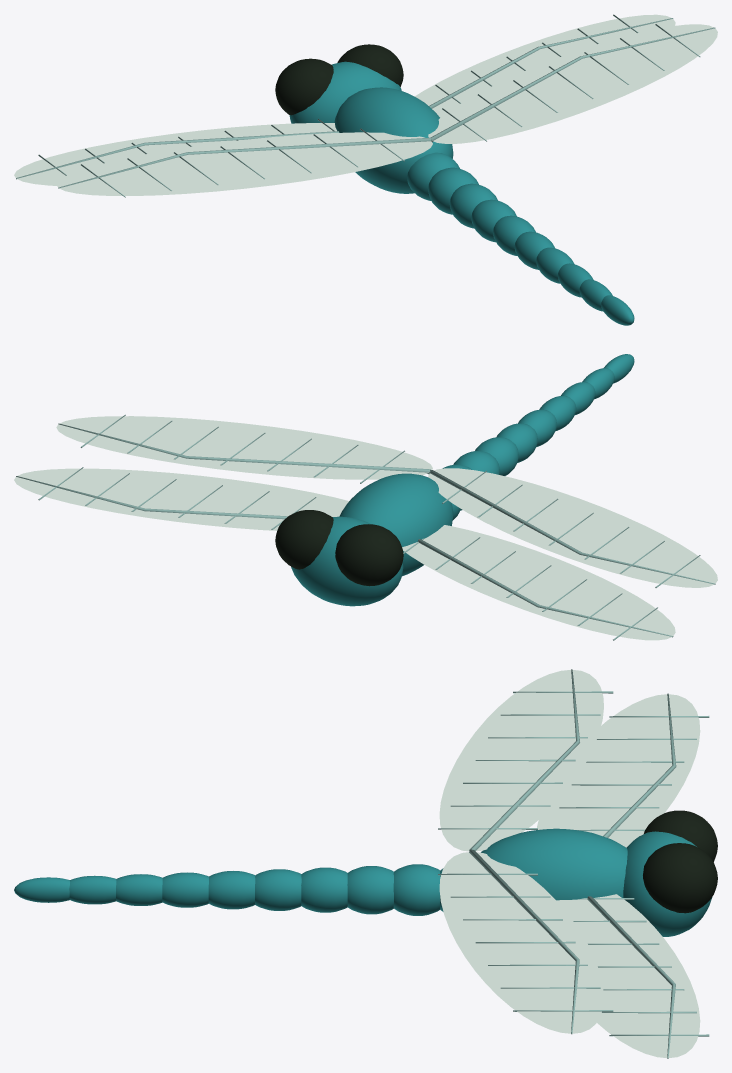
Rendered from dragonfly.glb.
The picture shows the model from 3 angles, top to bottom: view 1: azimuth 30°, elevation 25°; view 2: azimuth 150°, elevation 25°; view 3: azimuth 270°, elevation 25°; orthographic projection. The views are drawn at different scales.
Visible parts, largest first — view 1: Veined wing.003, Veined wing.001, Thorax, Veined wing.002, Veined wing, Head, Compound eye, Compound eye.001, Wing leading vein.001, Abdomen segment 1, Abdomen segment 0, Abdomen segment 2 (+10 smaller); view 2: Veined wing.001, Veined wing.003, Veined wing, Veined wing.002, Thorax, Head, Compound eye, Compound eye.001, Wing leading vein.003, Wing leading vein.001, Abdomen segment 3, Wing leading vein (+8 smaller); view 3: Veined wing.003, Veined wing.001, Veined wing, Veined wing.002, Thorax, Compound eye.001, Head, Abdomen segment 1, Abdomen segment 2, Abdomen segment 3, Abdomen segment 4, Compound eye (+9 smaller).
Boxes of the visible parts, x1,y1,x2,y2 form: Veined wing.003: (428, 24, 717, 143); Veined wing.001: (56, 132, 432, 195); Thorax: (334, 87, 453, 193); Veined wing.002: (415, 14, 675, 117); Veined wing: (14, 123, 336, 185); Head: (289, 61, 401, 123); Compound eye: (275, 58, 333, 115); Compound eye.001: (337, 44, 403, 86); Wing leading vein.001: (58, 137, 431, 188); Abdomen segment 1: (428, 167, 478, 214); Abdomen segment 0: (407, 152, 459, 200); Abdomen segment 2: (449, 183, 497, 228); Veined wing.001: (428, 468, 717, 587); Veined wing.003: (56, 416, 432, 479); Veined wing: (402, 525, 675, 640); Veined wing.002: (14, 468, 348, 530); Thorax: (339, 473, 453, 576); Head: (291, 516, 403, 606); Compound eye: (335, 524, 403, 586); Compound eye.001: (275, 510, 333, 569); Wing leading vein.003: (58, 423, 430, 474); Wing leading vein.001: (429, 470, 715, 584); Abdomen segment 3: (475, 437, 518, 475); Wing leading vein: (417, 539, 673, 637); Veined wing.003: (439, 852, 603, 1033); Veined wing.001: (439, 670, 603, 851); Veined wing: (537, 694, 700, 847); Veined wing.002: (556, 894, 700, 1057); Thorax: (481, 828, 627, 900); Compound eye.001: (643, 843, 717, 913); Head: (623, 831, 712, 936); Abdomen segment 1: (393, 864, 440, 915); Abdomen segment 2: (347, 866, 393, 914); Abdomen segment 3: (301, 867, 347, 912); Abdomen segment 4: (255, 869, 301, 910); Compound eye: (644, 810, 717, 861).
Size of the model in its own units: 1.12 by 0.145 by 0.915.
